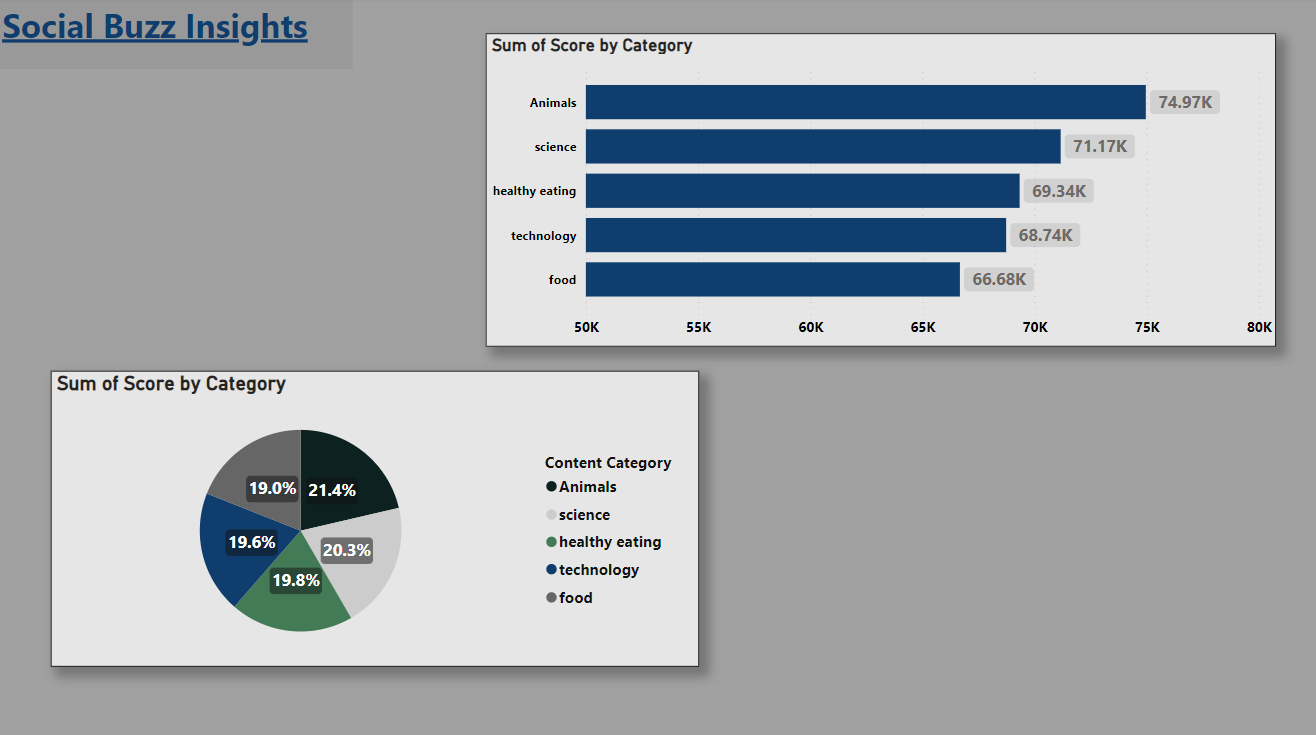

What the dashboard file says about the page in this screenshot:
{"tool":"powerbi","page":{"name":"Page 1","canvas":[1280,720],"ordinal":0},"visuals":[{"type":"clusteredBarChart","fields":{"Category":["Cleaned Data.Category"],"Y":["Sum(Cleaned Data.Score)"]},"box":[471.6,35,762.2,302.7],"z":0},{"type":"pieChart","fields":{"Category":["Cleaned Data.Category"],"Y":["Sum(Cleaned Data.Score)"]},"box":[51.9,360.6,625.9,285.8],"z":1000},{"type":"textbox","box":[0,0,343.5,69.7],"z":1002}]}

Visuals, with their boxes in screenshot pixels (x1, y1, x2, y2), scaled from the page's 1280x720 canvas onto the 1316x735 screenshot:
clusteredBarChart - Cleaned Data.Category x Sum(Cleaned Data.Score): l=485, t=36, r=1269, b=345
pieChart - Cleaned Data.Category x Sum(Cleaned Data.Score): l=53, t=368, r=697, b=660
textbox: l=0, t=0, r=353, b=71
